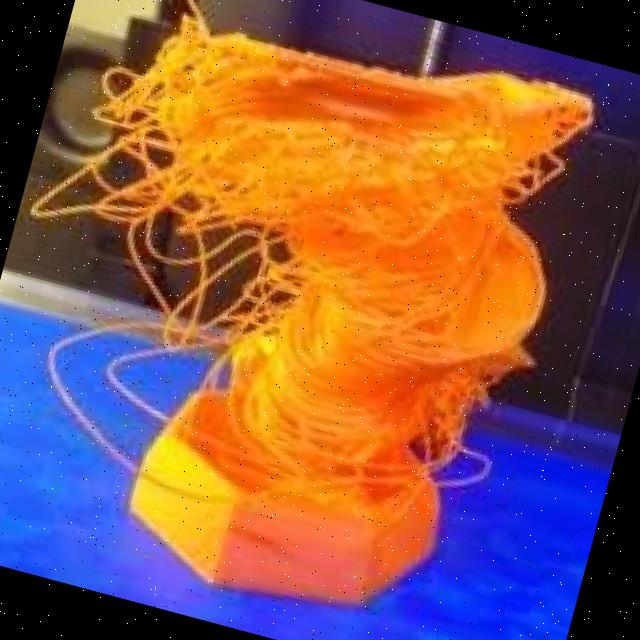spaghetti: (47, 0, 604, 551)
